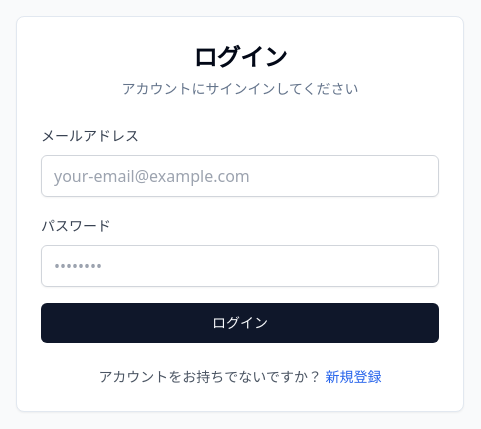
Scenario: LoginPage › ログイン中の状態表示
Type "test@example.com" into the field labelled "メールアドレス". click: (240, 176)
box: [41, 155, 439, 197]
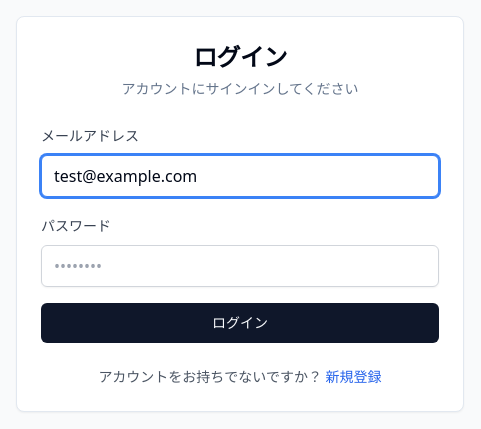
Type "password123" into the password field labelled "パスワード". click: (240, 266)
box: [41, 245, 439, 287]
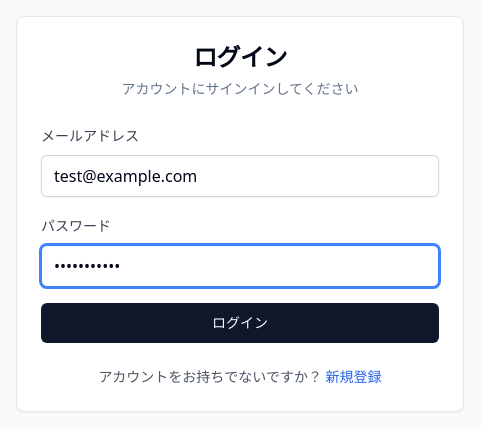
Click the button "ログイン". click: (240, 323)
box: [41, 303, 439, 343]
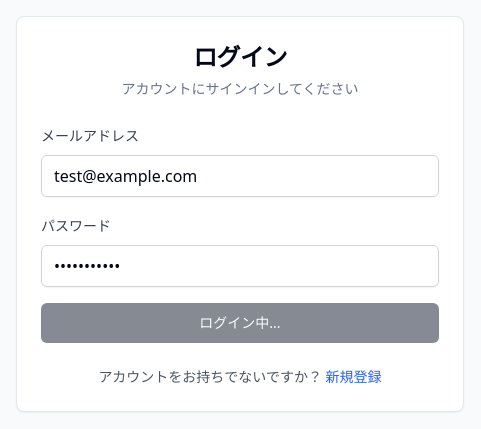
Now the button "ログイン中..." is disabled, box [41, 303, 439, 343]
